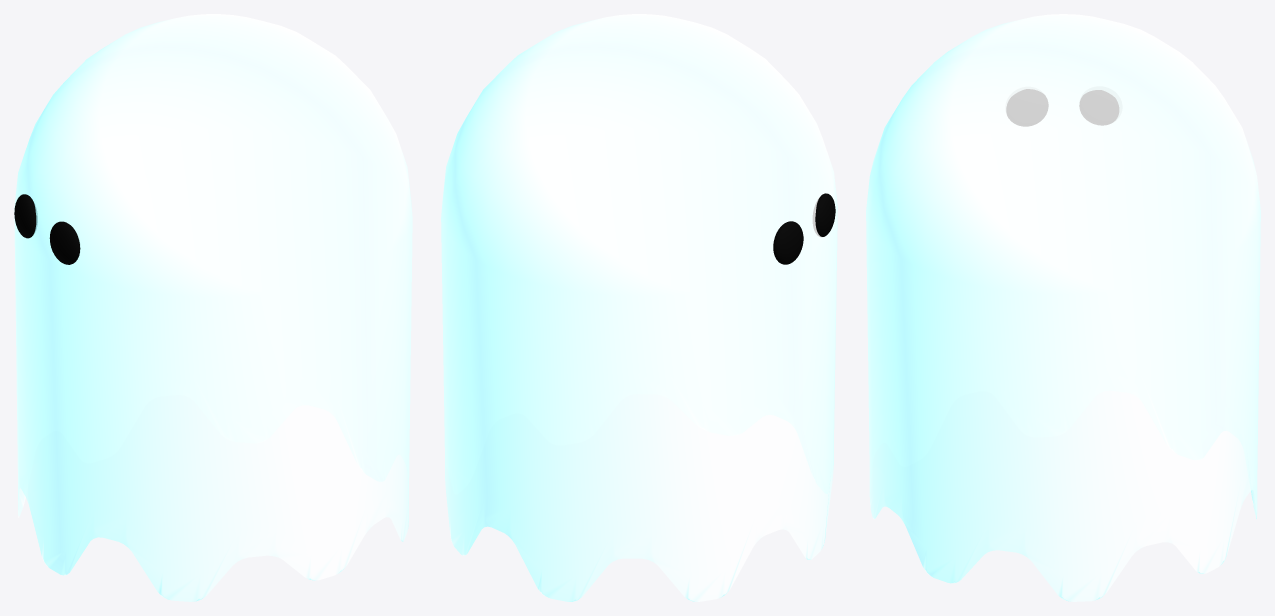
File: Ghost.fbx
3 renders of one model, left to right at view 1: azimuth 30°, elevation 25°; view 2: azimuth 150°, elevation 25°; view 3: azimuth 270°, elevation 25°, orthographic.
Visible parts, largest first — view 1: Ghost; view 2: Ghost; view 3: Ghost.
Boxes of the visible parts, <box> form: Ghost: <box>14,14,412,601</box>; Ghost: <box>441,14,837,601</box>; Ghost: <box>866,14,1260,601</box>.
Size of the model in its own units: 202 by 274 by 200.
